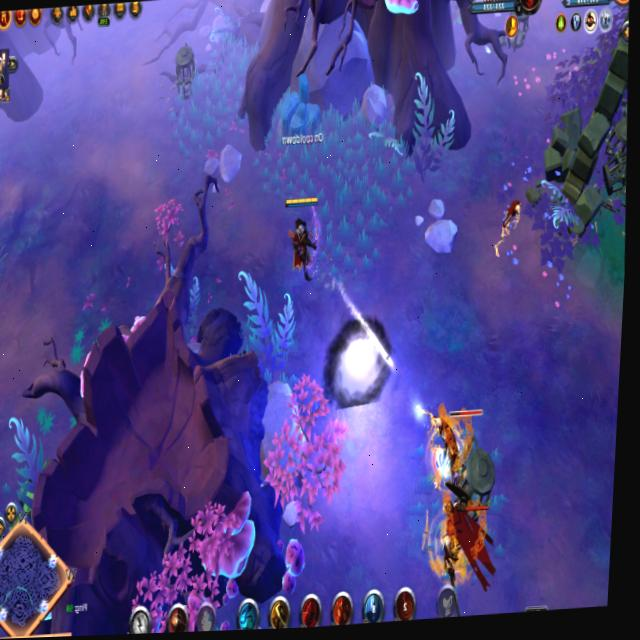ore: (412, 488, 500, 600), (409, 389, 489, 483), (483, 192, 531, 264)
red: (277, 186, 327, 281)
tree: (264, 68, 329, 163)
